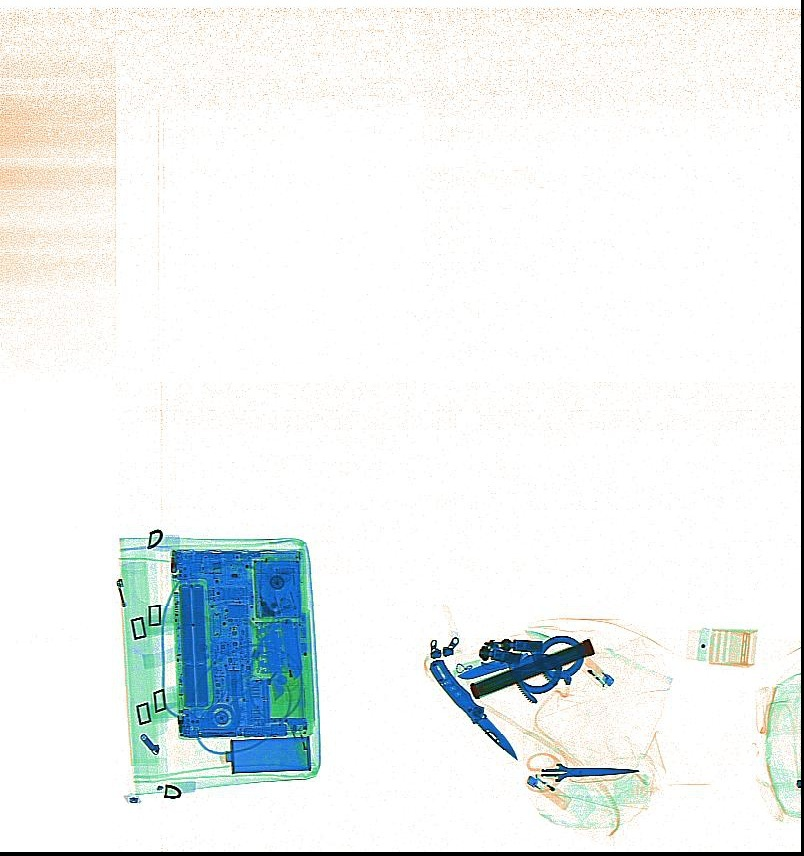handcuffs: (476, 634, 585, 702)
knife: (428, 658, 520, 760), (454, 652, 533, 681)
lighter: (526, 772, 573, 811), (578, 655, 616, 689)
scissors: (526, 751, 642, 794)
zippooil: (224, 736, 312, 774)
